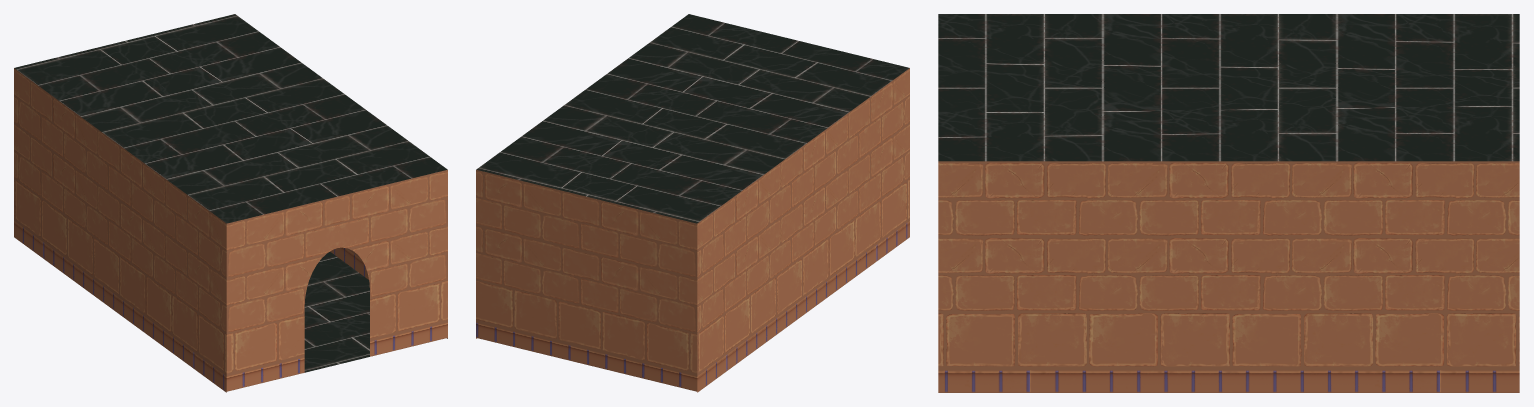
File: SM_Coridor_002.fbx
3 renders of one model, left to right at view 1: azimuth 30°, elevation 25°; view 2: azimuth 150°, elevation 25°; view 3: azimuth 270°, elevation 25°, orthographic. The views are drawn at different scales.
Visible parts, largest first — view 1: SM_Coridor_002; view 2: SM_Coridor_002; view 3: SM_Coridor_002.
Boxes of the visible parts, box(x1,y1,x2,y2) form: SM_Coridor_002: box(14, 14, 447, 392); SM_Coridor_002: box(476, 14, 909, 392); SM_Coridor_002: box(938, 14, 1519, 392).
Size of the model in its own units: 600 by 439 by 1000.
